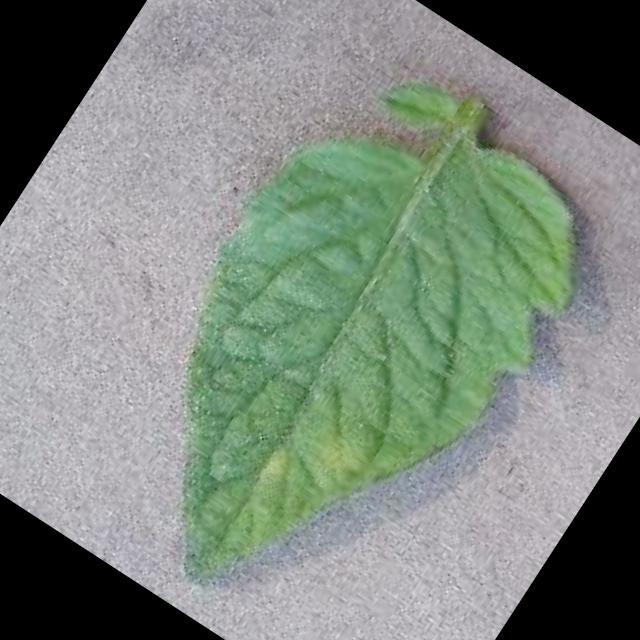Tomato mold leaf: (56, 43, 619, 640)
